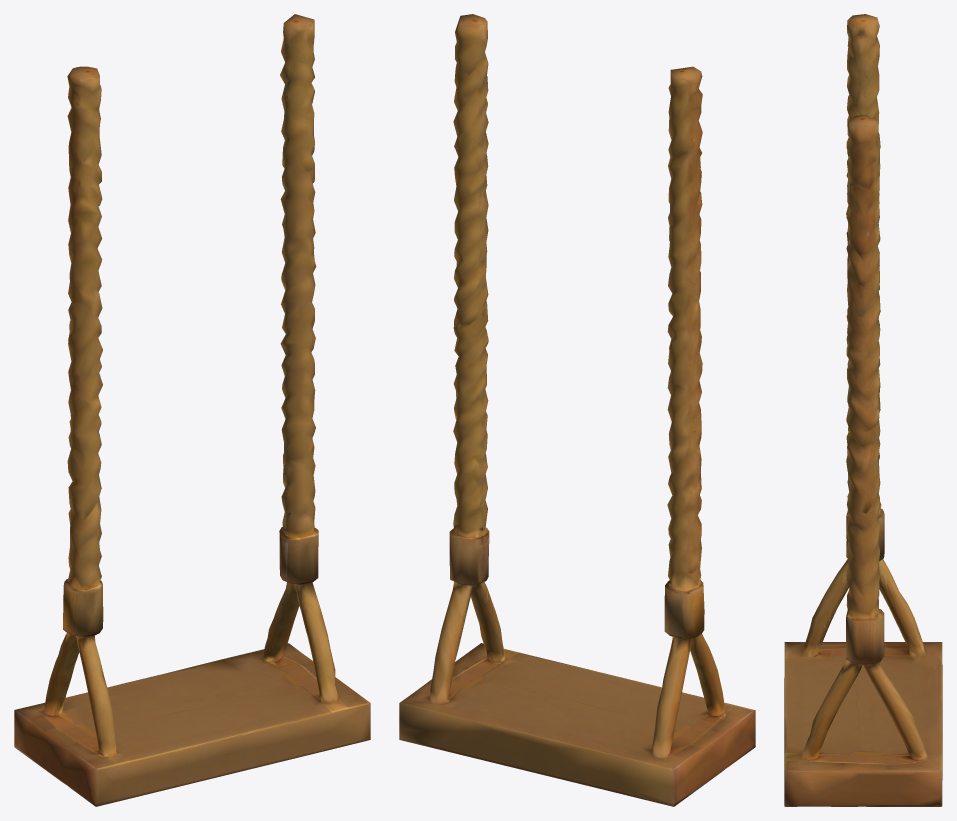
The model's file is Swing_in_Stillness_0728193203_texture.fbx.
3 views of the same model, side by side, from view 1: azimuth 30°, elevation 25°; view 2: azimuth 150°, elevation 25°; view 3: azimuth 270°, elevation 25° (orthographic). The views are drawn at different scales.
Visible parts, largest first — view 1: input; view 2: input; view 3: input.
Boxes of the visible parts, x1,y1,x2,y2 form: input: [14, 14, 370, 806]; input: [399, 14, 755, 806]; input: [784, 14, 942, 806].
Bounding box in the file's own units: 82.34 × 200 × 42.59.
Materials: 1 (1 with a texture image).
